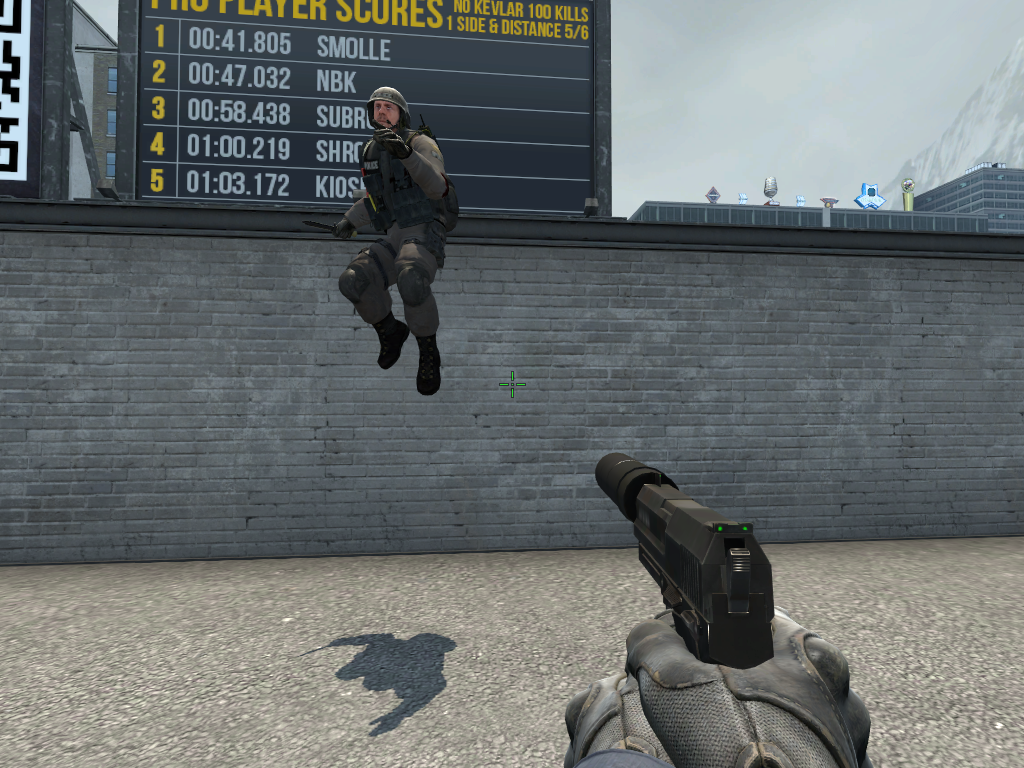ct head: (363, 86, 411, 140)
